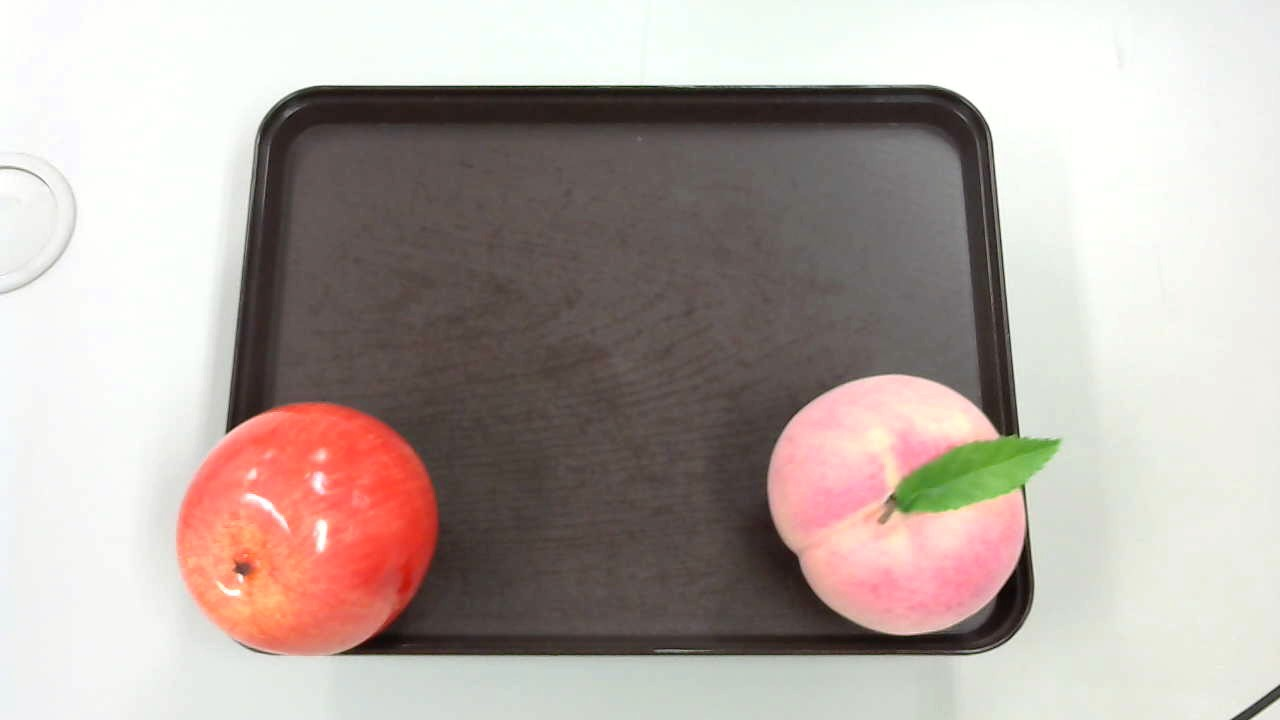peach: (770, 372, 1058, 642)
red apple: (180, 402, 445, 662)
